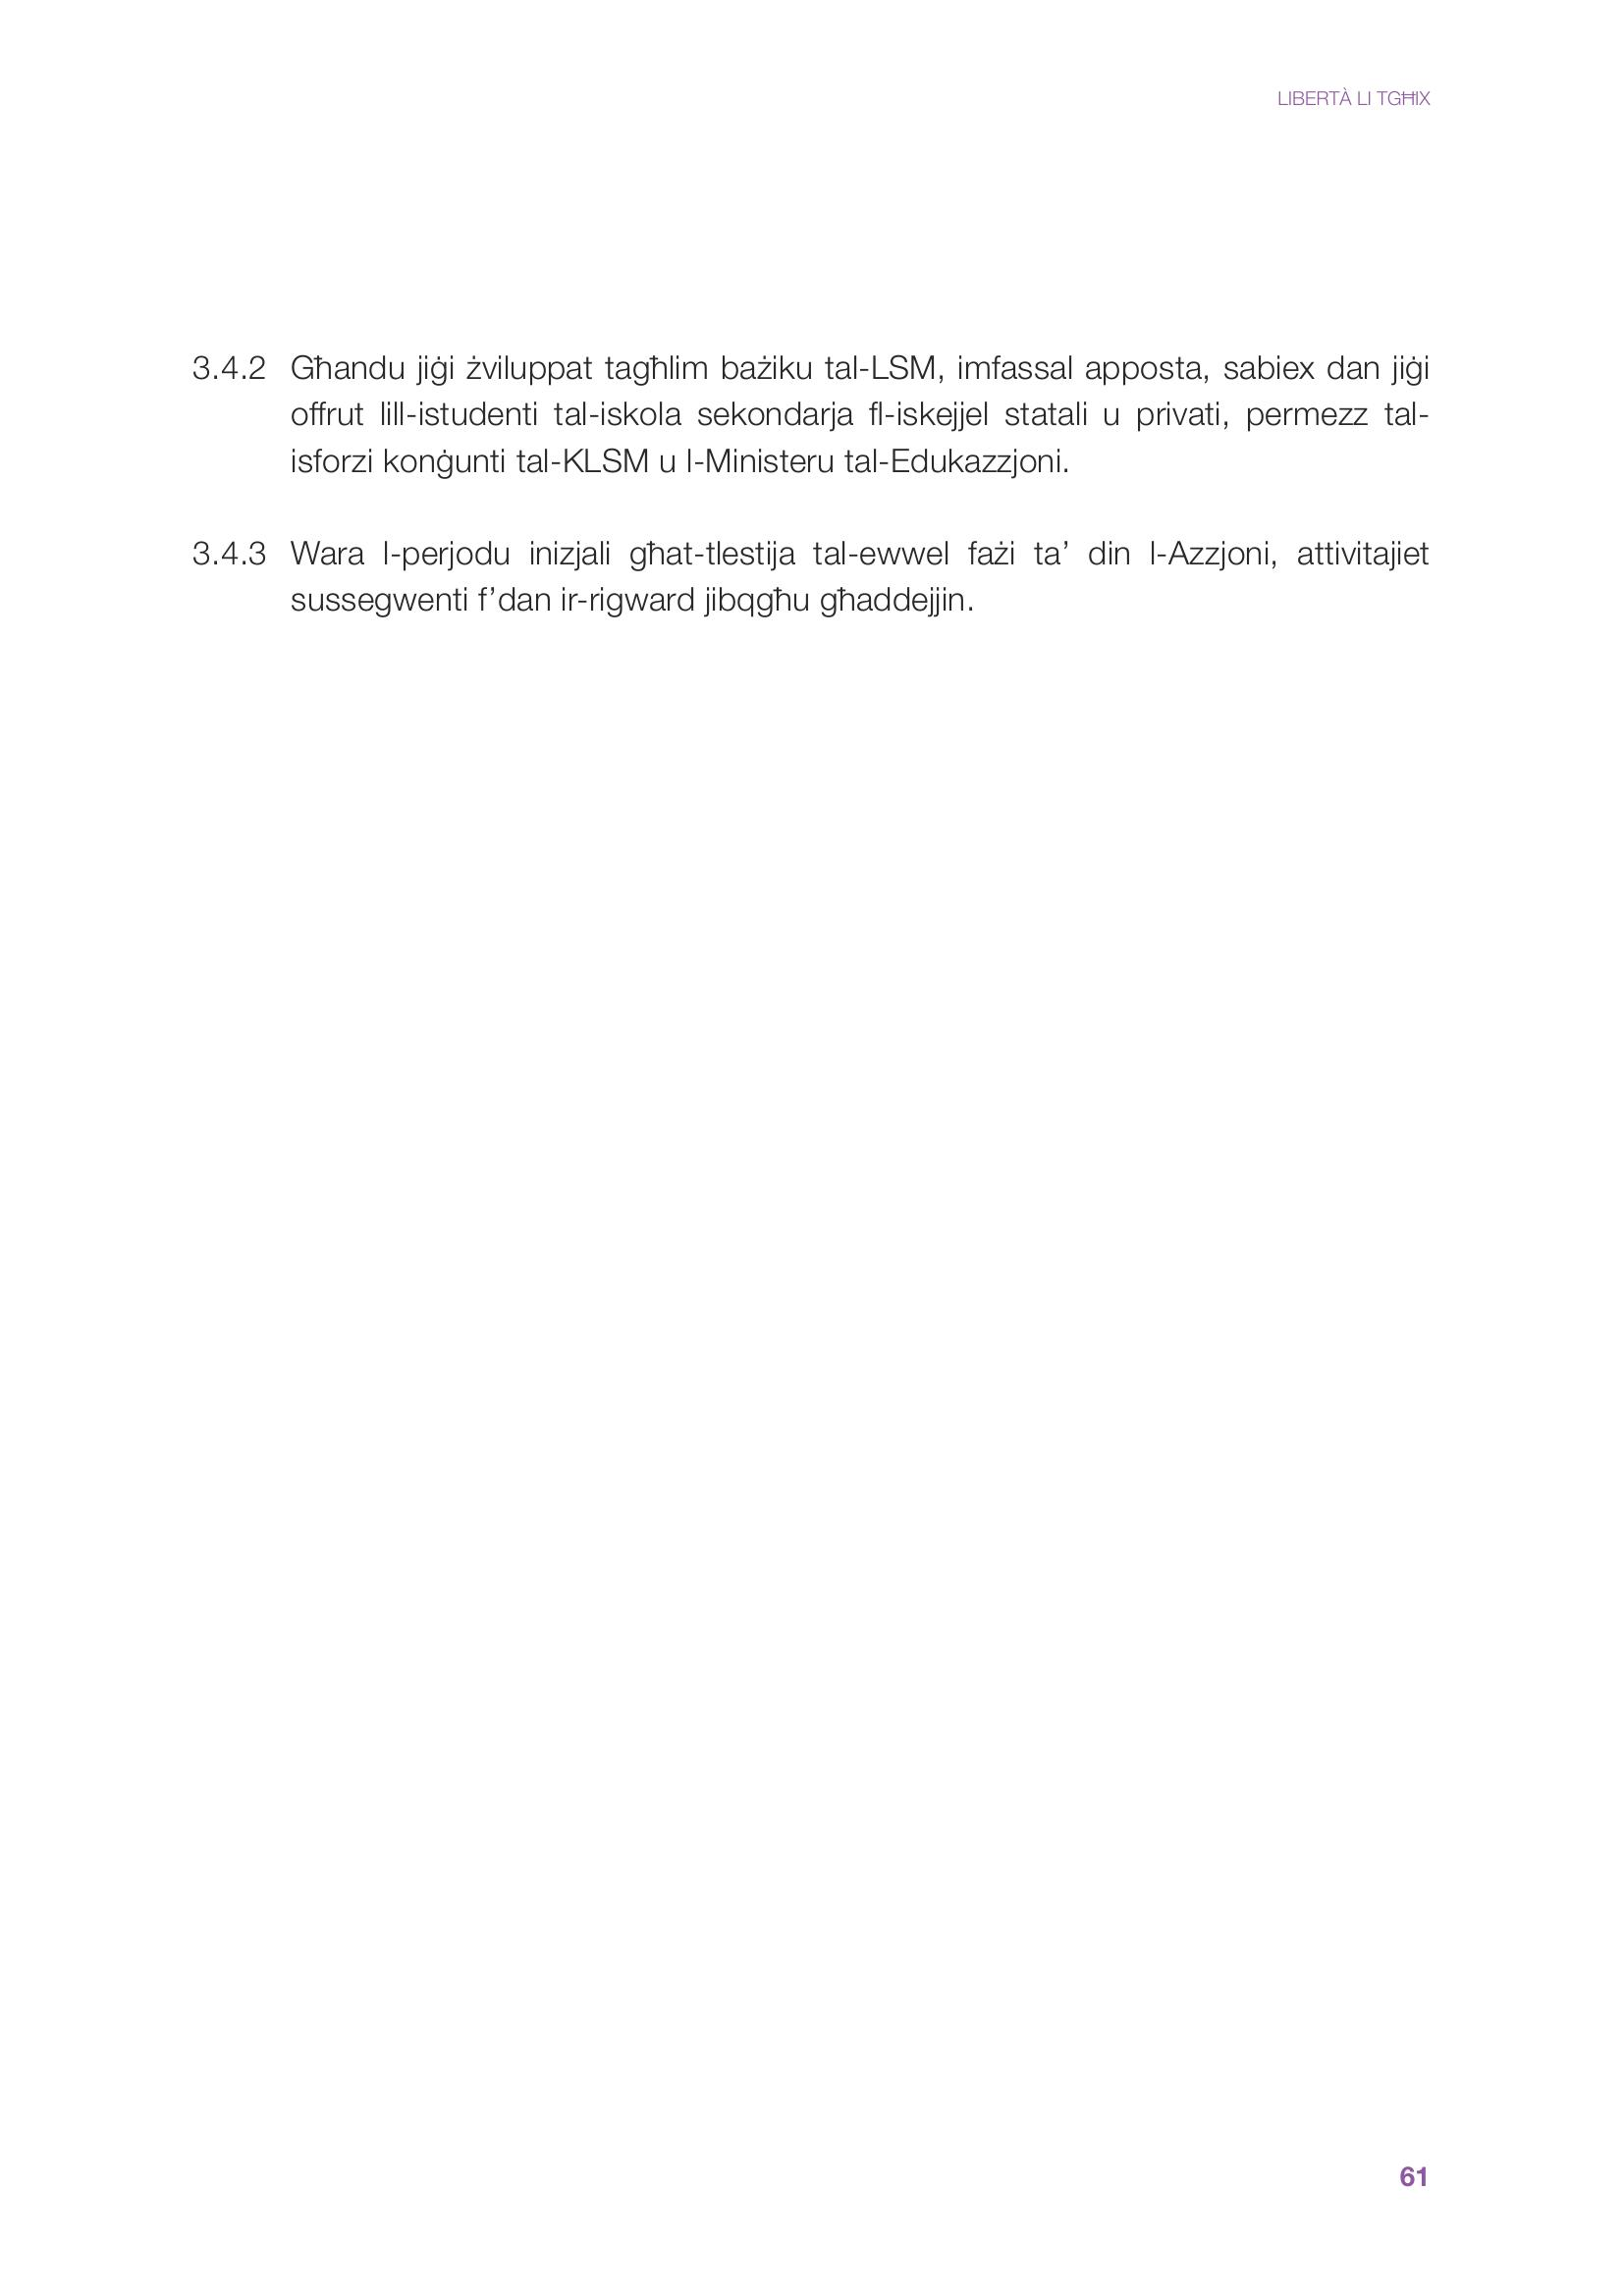text: (148, 316, 1501, 689)
